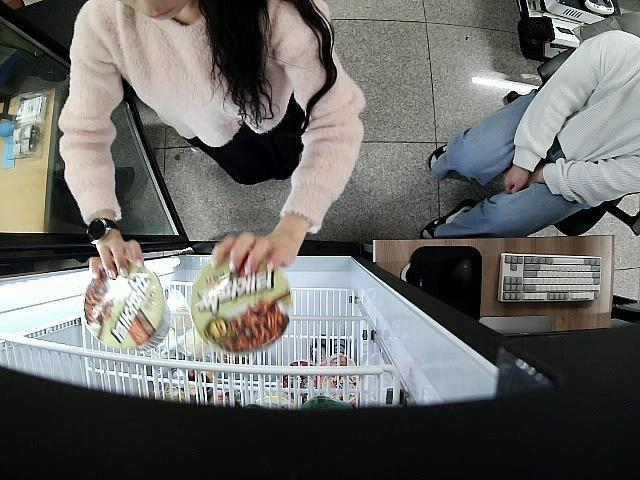03_chapagetti_L: (190, 257, 290, 354), (84, 264, 170, 350)
